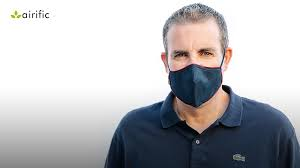MASK: (170, 64, 222, 107)
